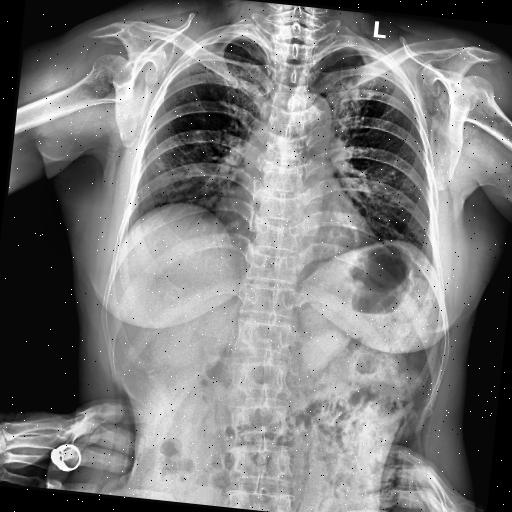0- Aortic enlargement: (290, 92, 333, 148)
3- Cardiomegaly: (208, 190, 380, 260), (212, 188, 381, 256)
